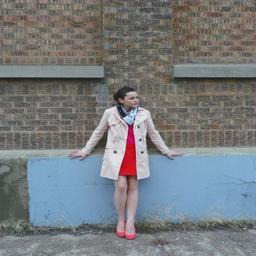person: (68, 87, 184, 239)
